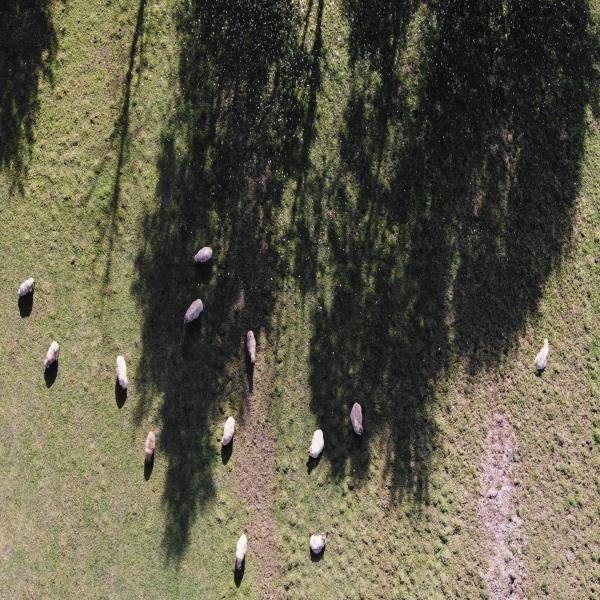sheep: (232, 514, 257, 571), (245, 320, 266, 386), (310, 523, 337, 573), (306, 424, 330, 478), (350, 387, 374, 441), (218, 406, 244, 451), (108, 346, 131, 396), (141, 418, 162, 469), (40, 331, 64, 375), (531, 333, 548, 379), (14, 262, 36, 296), (195, 236, 213, 277), (185, 293, 207, 324)
